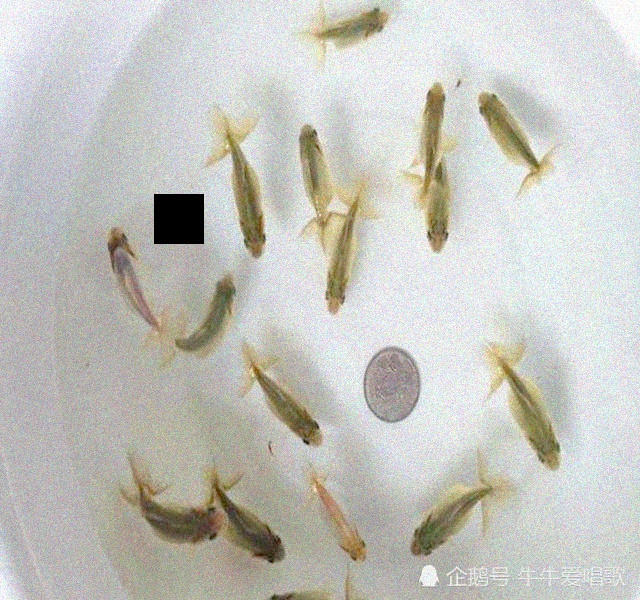fry: (191, 96, 273, 263), (89, 214, 178, 359), (483, 341, 572, 482), (393, 459, 513, 560), (227, 340, 331, 453), (474, 79, 569, 199), (119, 462, 224, 564), (206, 465, 297, 572), (158, 263, 238, 376), (276, 109, 341, 248), (298, 457, 374, 571), (395, 69, 459, 202), (310, 176, 369, 317), (293, 4, 403, 61), (410, 149, 459, 264)
